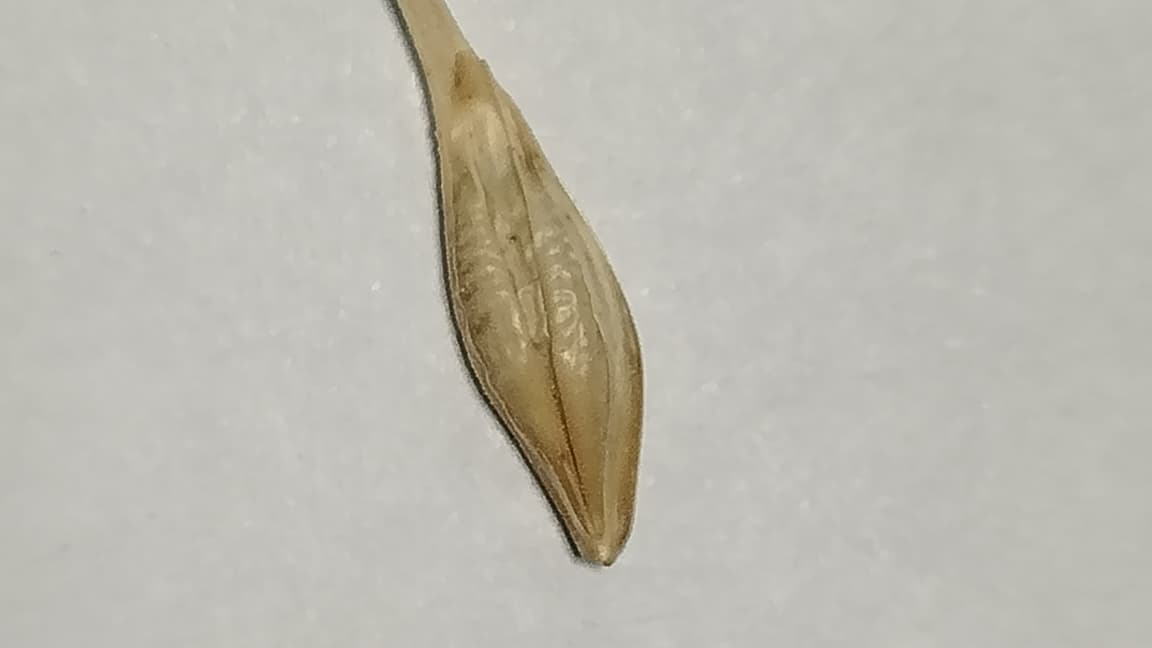healthy-50-40: (385, 0, 642, 565)
shriveledseed: (447, 185, 601, 376)
